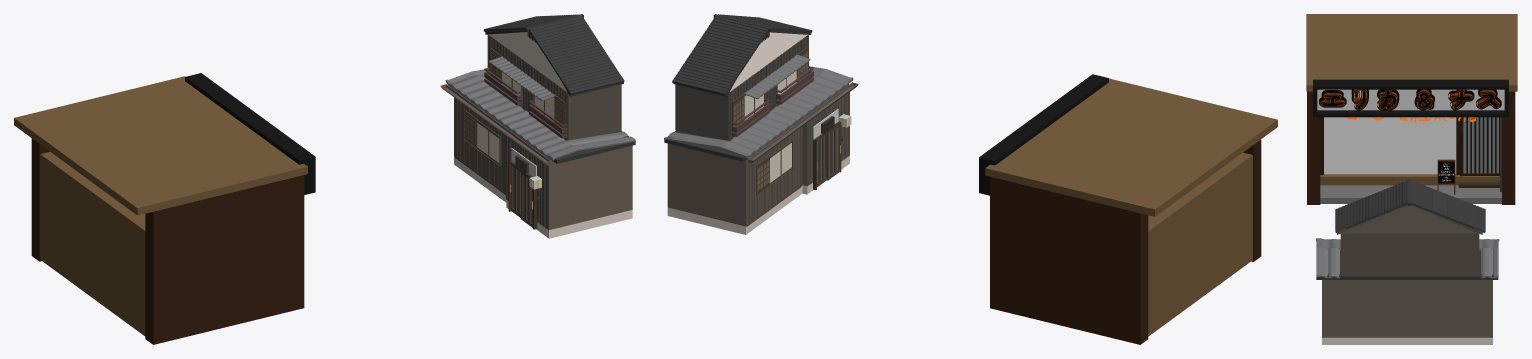
The model's file is Outside.fbx.
3 views of the same model, side by side, from view 1: azimuth 30°, elevation 25°; view 2: azimuth 150°, elevation 25°; view 3: azimuth 270°, elevation 25° (orthographic). The views are drawn at different scales.
Visible parts, largest first — view 1: Cube_012, jphouse1, Cube_001, Cube_053; view 2: Cube_012, jphouse1, Cube_001, Cube_053; view 3: jphouse1, Cube_012, Cube_053, Cube_007, Cube_001, Cube, Cube_002, Cube_009, Cube_005, Cube_055, Cube_003, Text (+2 smaller).
Part boxes in pixels (x1=…): Cube_012: x1=14, y1=76, x2=307, y2=336; jphouse1: x1=440, y1=14, x2=635, y2=238; Cube_001: x1=31, y1=138, x2=304, y2=344; Cube_053: x1=185, y1=73, x2=315, y2=194; Cube_012: x1=985, y1=78, x2=1277, y2=336; jphouse1: x1=664, y1=14, x2=858, y2=234; Cube_001: x1=990, y1=139, x2=1261, y2=344; Cube_053: x1=979, y1=74, x2=1108, y2=195; jphouse1: x1=1316, y1=179, x2=1499, y2=344; Cube_012: x1=1306, y1=14, x2=1517, y2=91; Cube_053: x1=1313, y1=79, x2=1508, y2=117; Cube_007: x1=1324, y1=117, x2=1456, y2=174; Cube_001: x1=1307, y1=91, x2=1515, y2=204; Cube: x1=1320, y1=185, x2=1501, y2=203; Cube_002: x1=1320, y1=174, x2=1499, y2=185; Cube_009: x1=1463, y1=117, x2=1498, y2=173; Cube_005: x1=1460, y1=117, x2=1499, y2=176; Cube_055: x1=1437, y1=159, x2=1455, y2=194; Cube_003: x1=1458, y1=182, x2=1499, y2=187; Text: x1=1347, y1=117, x2=1475, y2=122.
Size of what is drawn, in the model's own units: 1633 by 516 by 690.
